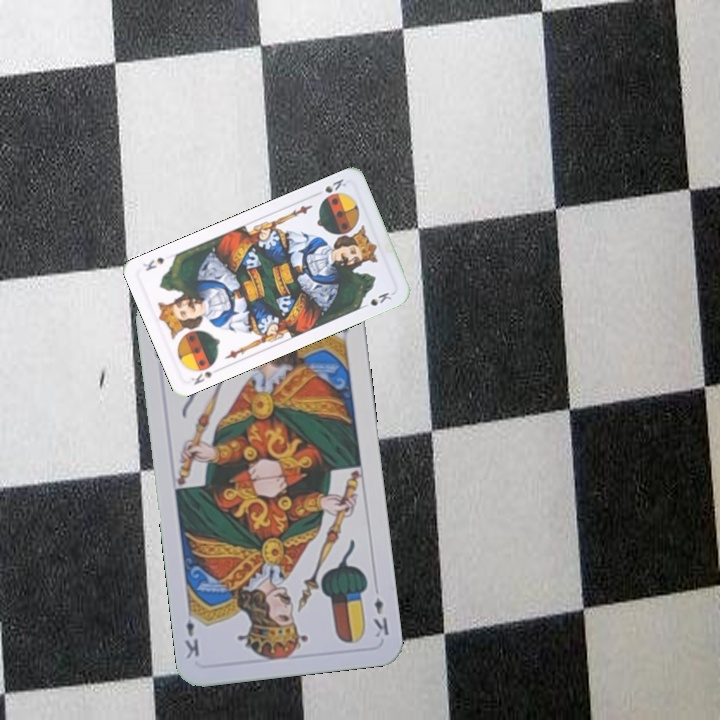EK: (370, 594, 392, 640)
SK: (187, 358, 218, 388), (321, 175, 349, 196)
